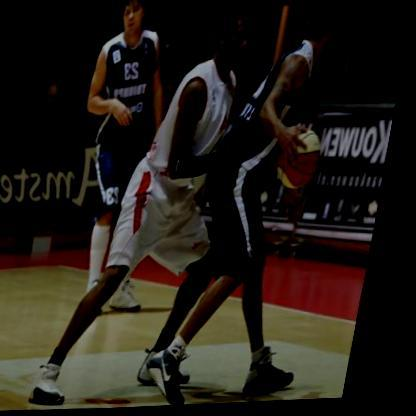basketball: (278, 128, 332, 192)
